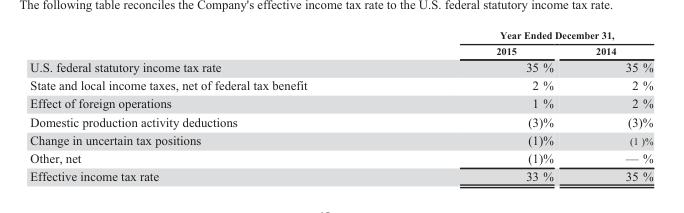table: (29, 29, 652, 182)
table column: (29, 29, 401, 182), (401, 29, 574, 182), (574, 29, 652, 182)
table column header: (29, 29, 652, 57)
table row: (29, 111, 652, 130), (29, 57, 652, 75), (29, 75, 652, 93), (29, 93, 652, 111), (29, 130, 652, 148), (29, 148, 652, 166), (29, 166, 652, 182), (29, 42, 652, 57), (29, 29, 652, 42)
table spanning cell: (401, 29, 652, 42)
